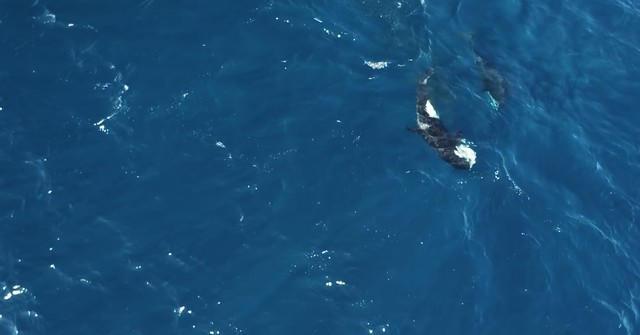whale: (399, 54, 493, 188), (463, 45, 517, 119)
